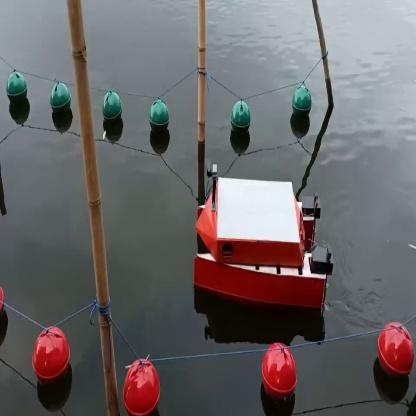green_buoy: (6, 70, 30, 114), (48, 81, 72, 120), (150, 98, 171, 140), (290, 86, 314, 122), (103, 90, 121, 129), (232, 101, 250, 138)
red_buoy: (258, 340, 296, 402), (376, 320, 412, 382), (34, 324, 70, 384), (124, 358, 162, 413)
